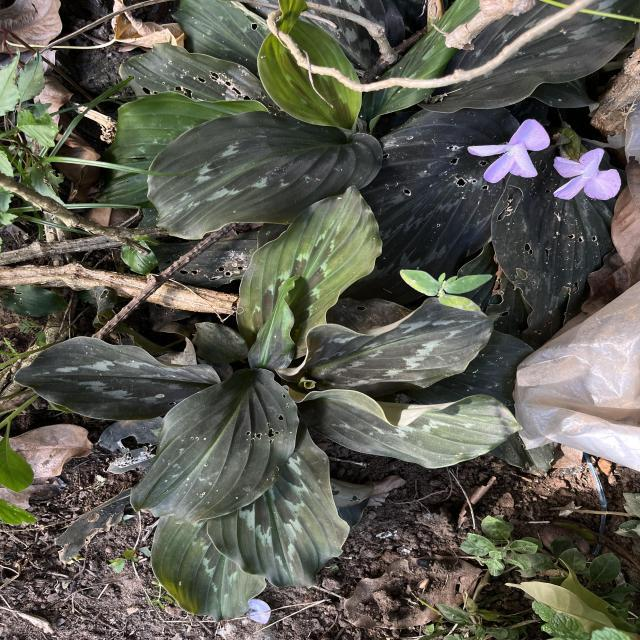Kaempferia galanga linn: (145, 109, 386, 242), (128, 364, 302, 528), (234, 182, 385, 364), (205, 420, 353, 590), (272, 295, 502, 393), (276, 382, 526, 472), (12, 335, 223, 423), (146, 518, 270, 626), (246, 271, 302, 378)
